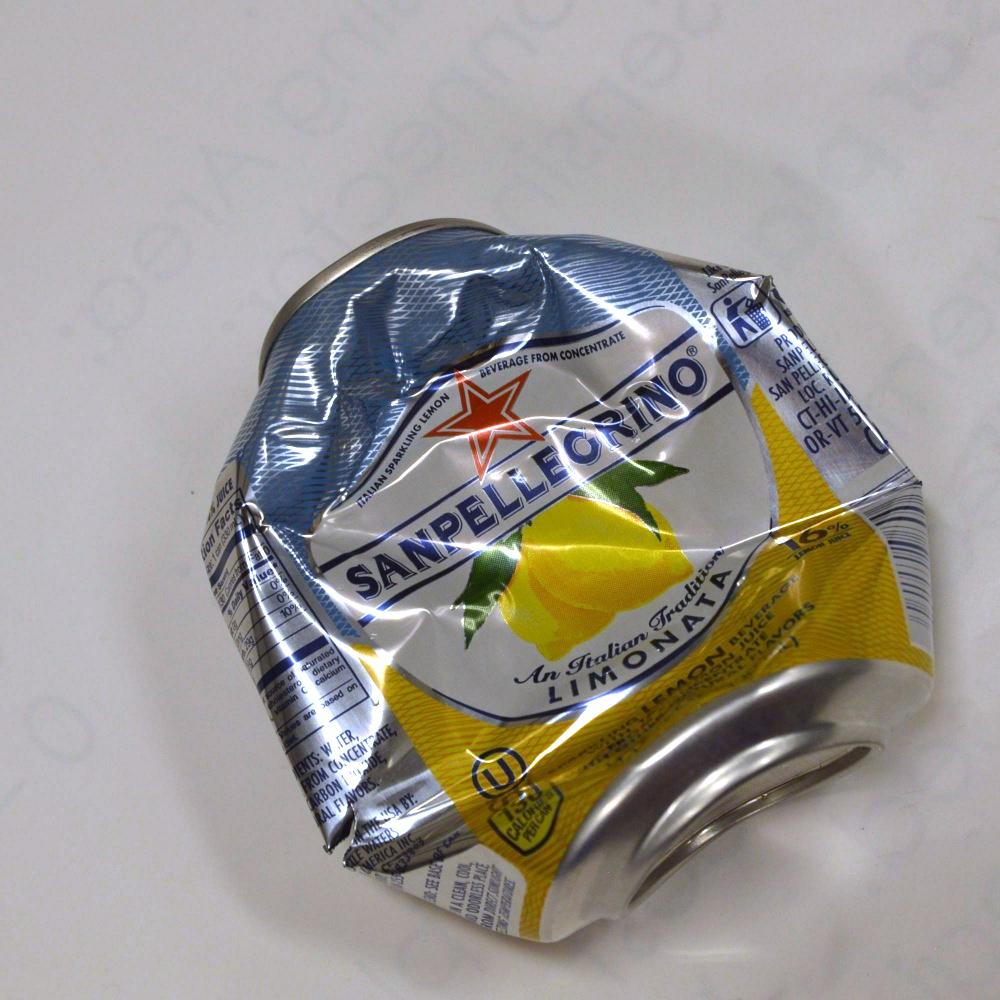Metal: (160, 163, 951, 963)
